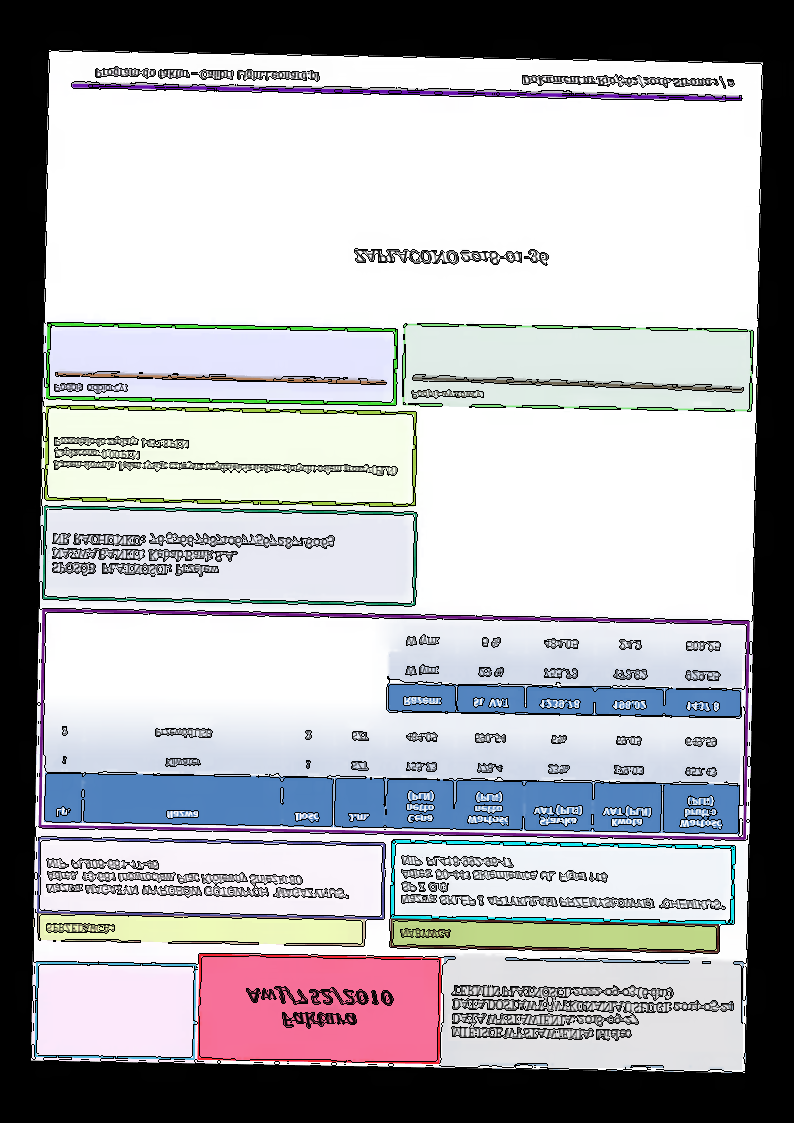Table: (43, 710, 742, 835), (385, 620, 744, 720)
TextBox: (397, 854, 728, 913), (450, 981, 736, 1047), (50, 528, 335, 585), (52, 434, 400, 478), (45, 856, 352, 902), (242, 982, 398, 1034), (350, 245, 554, 270), (92, 64, 322, 86), (520, 71, 737, 94), (52, 380, 129, 400), (43, 920, 116, 939), (408, 388, 483, 404), (397, 927, 455, 944)
